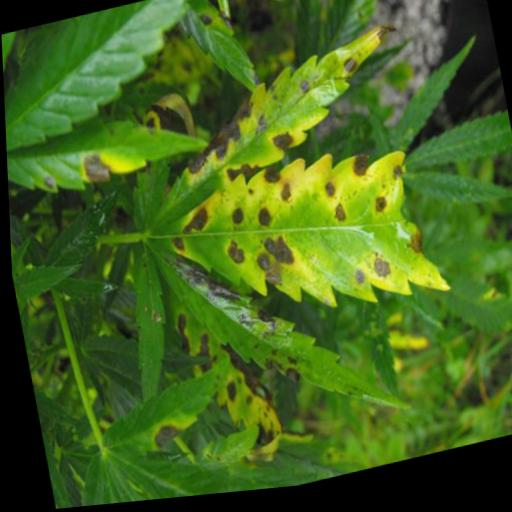Bacterial Spot: (153, 134, 450, 364), (134, 21, 404, 228), (3, 76, 213, 225), (88, 344, 242, 471)
